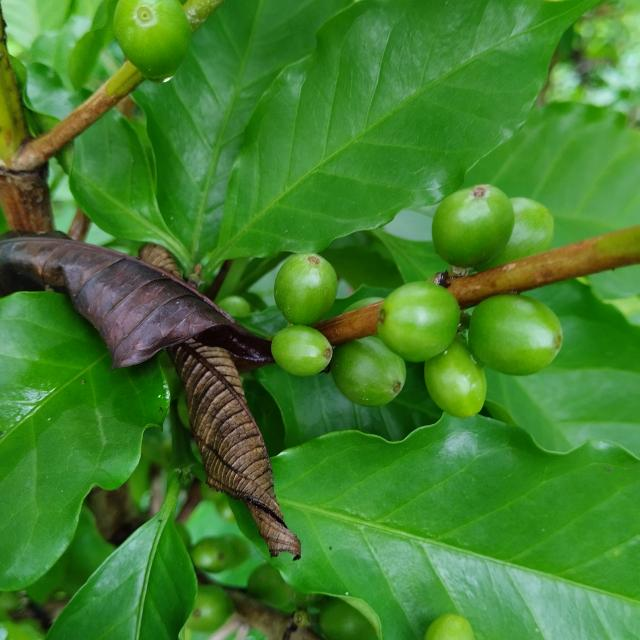green: (469, 294, 564, 376), (433, 184, 515, 268), (378, 281, 461, 362), (113, 0, 190, 81), (476, 197, 555, 272), (330, 336, 406, 407), (425, 336, 488, 418), (274, 252, 338, 326), (271, 325, 332, 376)
